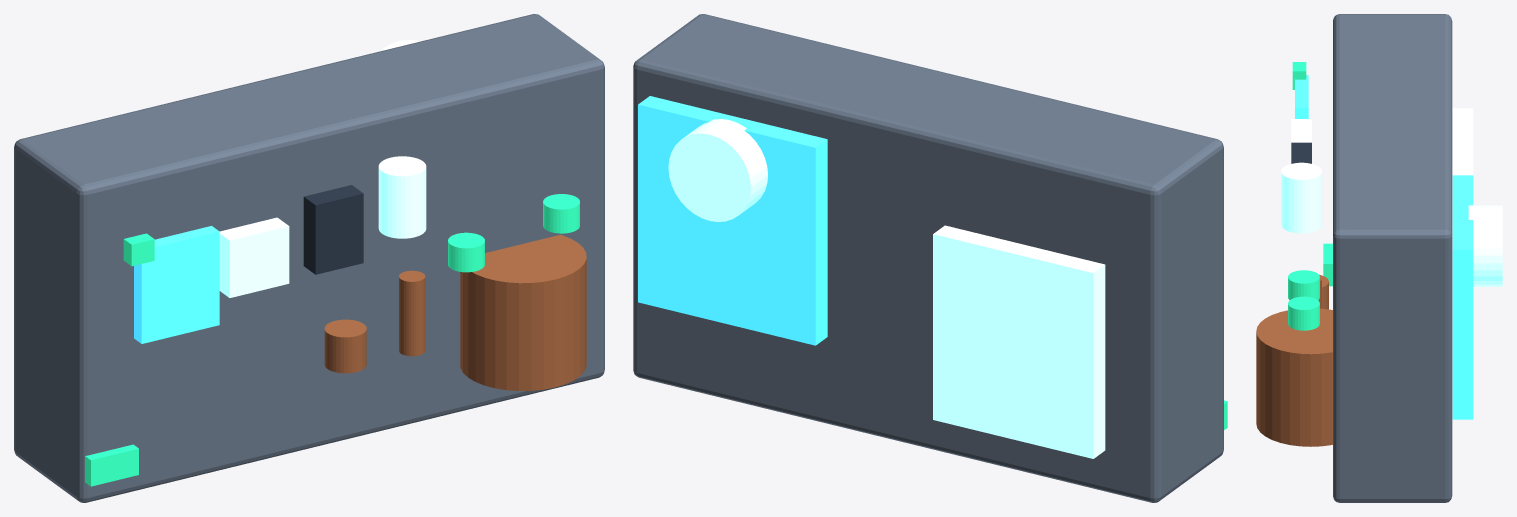
The model's file is rtu-training-shell.glb.
3 renders of one model, left to right at view 1: azimuth 30°, elevation 25°; view 2: azimuth 150°, elevation 25°; view 3: azimuth 270°, elevation 25°, orthographic. The views are drawn at different scales.
Visible parts, largest first — view 1: RTU_CABINET, COMP_COMPRESSOR, COMP_CONTROL_BOARD, COMP_CONTACTOR, COMP_TRANSFORMER, COMP_RUN_CAPACITOR, COMP_FILTER_DRIER, COMP_TXV, COMP_CONDENSATE_DRAIN, COMP_HIGH_PRESSURE_SWITCH, COMP_LOW_PRESSURE_SWITCH, COMP_Y_INPUT; view 2: RTU_CABINET, COMP_EVAPORATOR, CONDENSER_SECTION, COMP_CONDENSER_FAN_MOTOR; view 3: RTU_CABINET, COMP_COMPRESSOR, CONDENSER_SECTION, COMP_RUN_CAPACITOR, COMP_CONDENSER_FAN_MOTOR, COMP_EVAPORATOR, COMP_HIGH_PRESSURE_SWITCH, COMP_LOW_PRESSURE_SWITCH, COMP_CONTROL_BOARD, COMP_TRANSFORMER, COMP_CONTACTOR, COMP_CONDENSATE_DRAIN (+1 smaller).
Part boxes in pixels (bbox=[...]): RTU_CABINET: bbox=[14, 14, 604, 502]; COMP_COMPRESSOR: bbox=[460, 234, 586, 390]; COMP_CONTROL_BOARD: bbox=[134, 226, 219, 343]; COMP_CONTACTOR: bbox=[303, 185, 363, 274]; COMP_TRANSFORMER: bbox=[219, 217, 289, 297]; COMP_RUN_CAPACITOR: bbox=[378, 156, 426, 238]; COMP_FILTER_DRIER: bbox=[399, 270, 425, 356]; COMP_TXV: bbox=[324, 319, 366, 373]; COMP_CONDENSATE_DRAIN: bbox=[85, 444, 138, 486]; COMP_HIGH_PRESSURE_SWITCH: bbox=[543, 194, 579, 233]; COMP_LOW_PRESSURE_SWITCH: bbox=[448, 232, 484, 272]; COMP_Y_INPUT: bbox=[123, 233, 154, 266]; RTU_CABINET: bbox=[633, 14, 1223, 502]; COMP_EVAPORATOR: bbox=[933, 225, 1105, 458]; CONDENSER_SECTION: bbox=[638, 96, 827, 345]; COMP_CONDENSER_FAN_MOTOR: bbox=[668, 119, 767, 221]; RTU_CABINET: bbox=[1333, 14, 1452, 502]; COMP_COMPRESSOR: bbox=[1256, 308, 1332, 446]; CONDENSER_SECTION: bbox=[1452, 175, 1473, 419]; COMP_RUN_CAPACITOR: bbox=[1281, 162, 1321, 233]; COMP_CONDENSER_FAN_MOTOR: bbox=[1468, 205, 1502, 286]; COMP_EVAPORATOR: bbox=[1452, 108, 1473, 175]; COMP_HIGH_PRESSURE_SWITCH: bbox=[1288, 296, 1319, 330]; COMP_LOW_PRESSURE_SWITCH: bbox=[1288, 270, 1319, 300]; COMP_CONTROL_BOARD: bbox=[1295, 75, 1308, 118]; COMP_TRANSFORMER: bbox=[1291, 119, 1311, 142]; COMP_CONTACTOR: bbox=[1291, 142, 1311, 163]; COMP_CONDENSATE_DRAIN: bbox=[1323, 243, 1332, 286].
Bounding box in the file's own units: 4.6 × 2.65 × 2.17.
